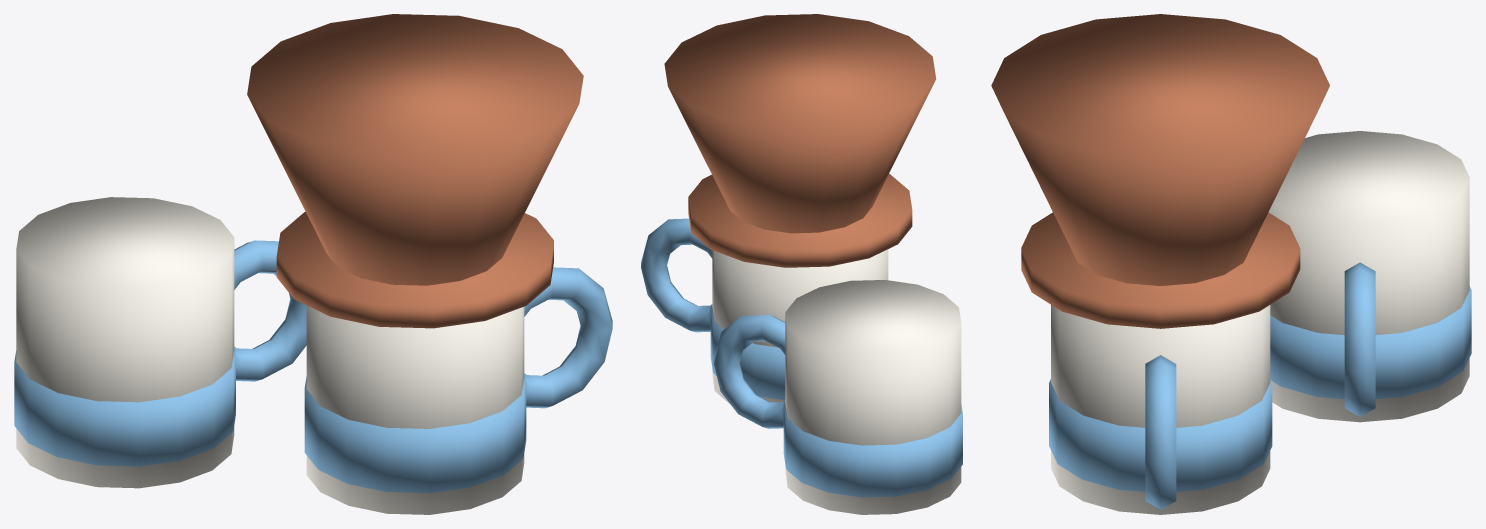
File: coffee_set.glb
3 renders of one model, left to right at view 1: azimuth 30°, elevation 25°; view 2: azimuth 150°, elevation 25°; view 3: azimuth 270°, elevation 25°, orthographic. The views are drawn at different scales.
Parts seen in each view (by area): view 1: coffee_set; view 2: coffee_set; view 3: coffee_set.
Part boxes in pixels (left/top/right/bottom): coffee_set: left=14, top=14, right=612, bottom=514; coffee_set: left=641, top=14, right=962, bottom=514; coffee_set: left=991, top=14, right=1471, bottom=514.
Size of the model in its own units: 0.28 by 0.212 by 0.241.
